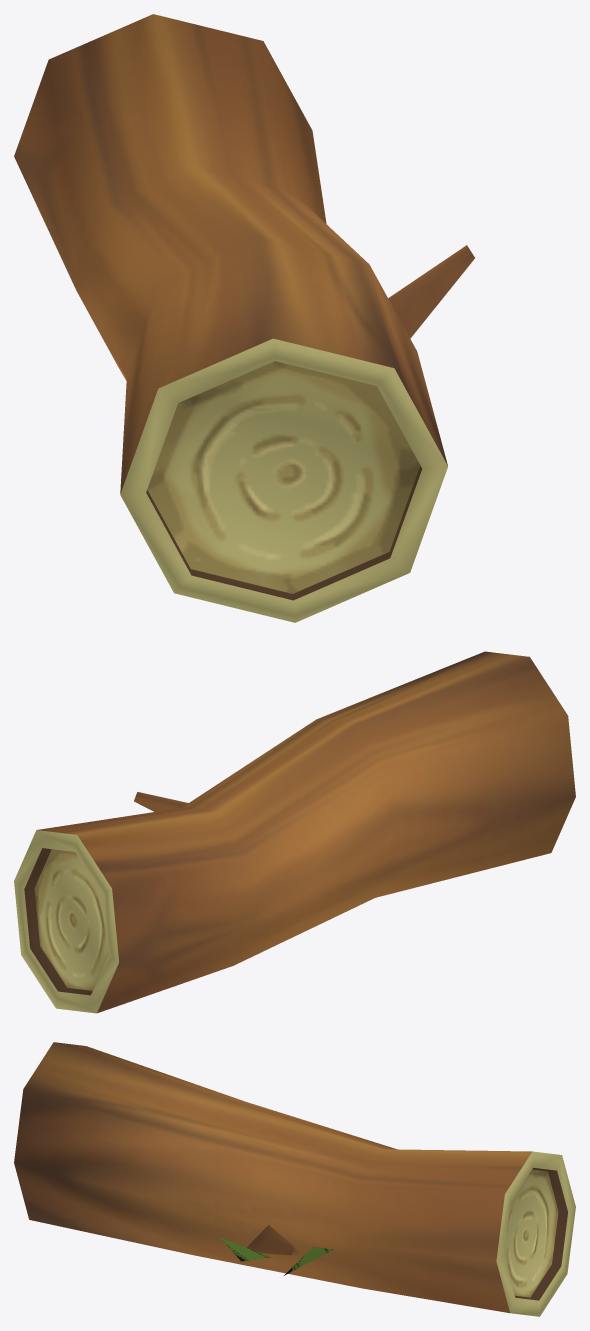
Rendered from tree_4.gltf.
3 renders of one model, top to bottom at view 1: azimuth 30°, elevation 25°; view 2: azimuth 150°, elevation 25°; view 3: azimuth 270°, elevation 25°, orthographic. The views are drawn at different scales.
Visible parts, largest first — view 1: Tree1; view 2: Tree1; view 3: Tree1.
Boxes of the visible parts, x1=… form: Tree1: x1=14, y1=14, x2=474, y2=622; Tree1: x1=14, y1=651, x2=575, y2=1013; Tree1: x1=14, y1=1042, x2=575, y2=1316.
Size of what is drawn, in the model's own units: 0.9249 by 0.4537 by 1.25.
1 material, 1 textured.
